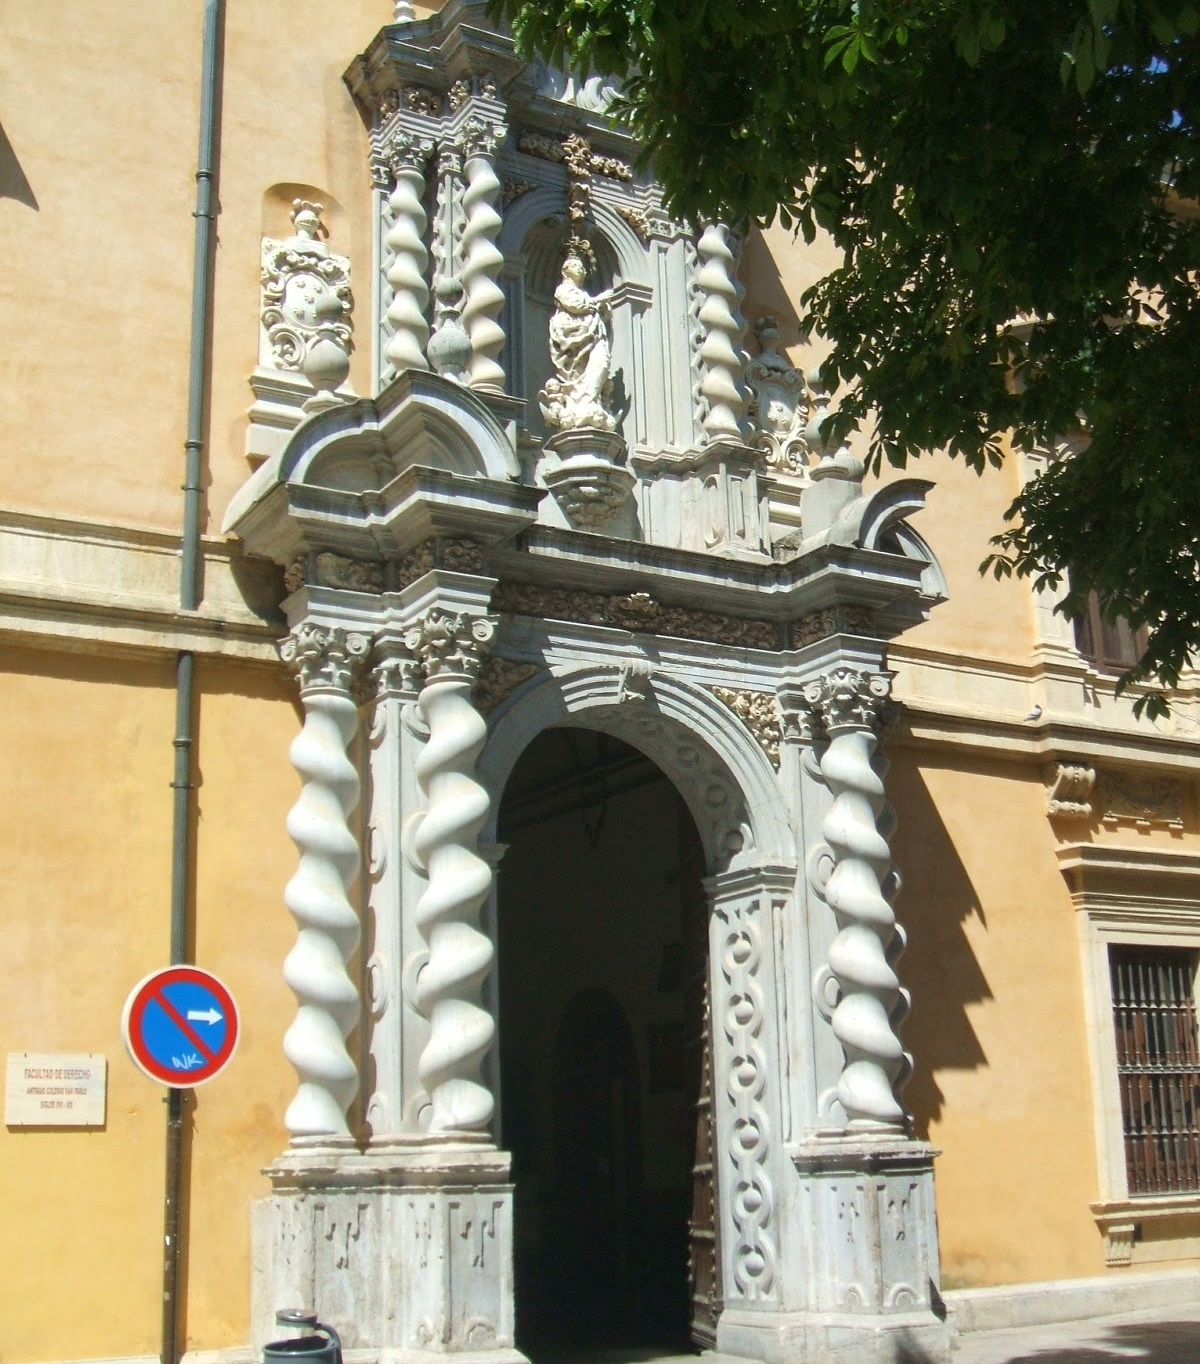arco-medio-punto: (490, 668, 788, 902)
columna-salomonica: (264, 676, 377, 1149), (403, 663, 510, 1144), (803, 720, 917, 1140), (451, 148, 519, 391), (688, 219, 757, 447), (374, 150, 438, 380)
vano-adintelado: (1041, 840, 1200, 1229)
